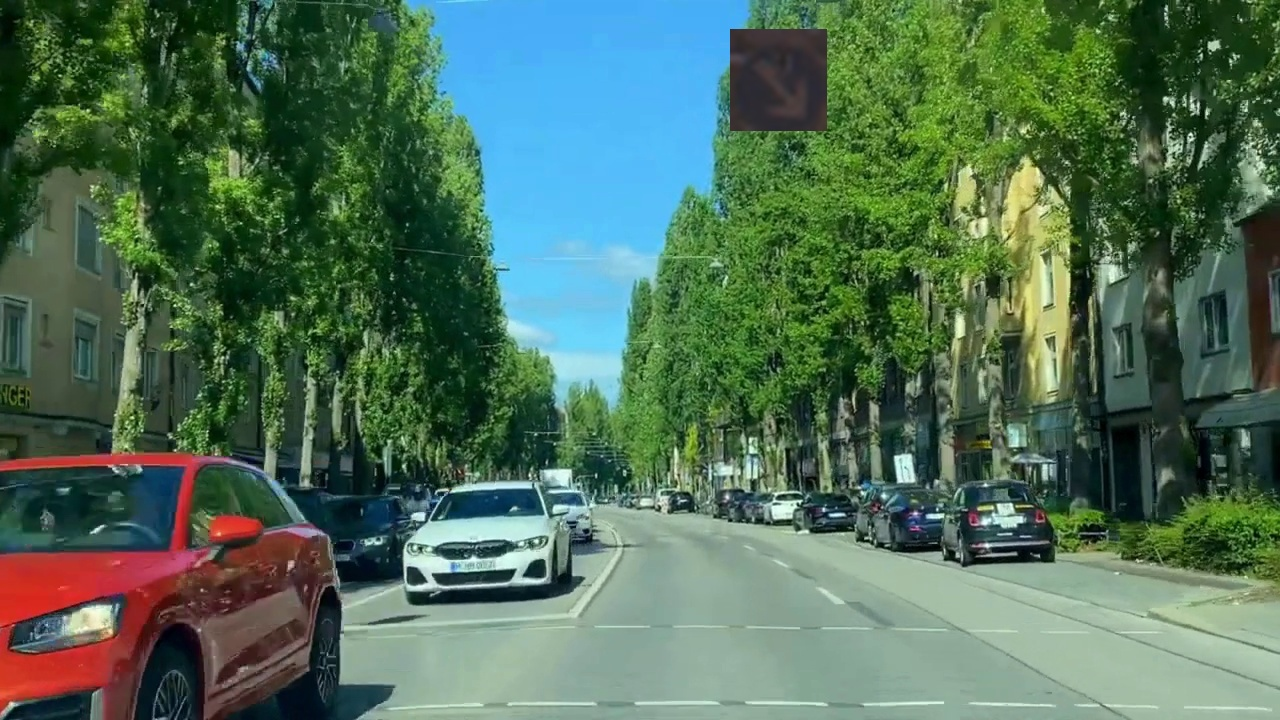Keep right: (730, 29, 827, 131)
